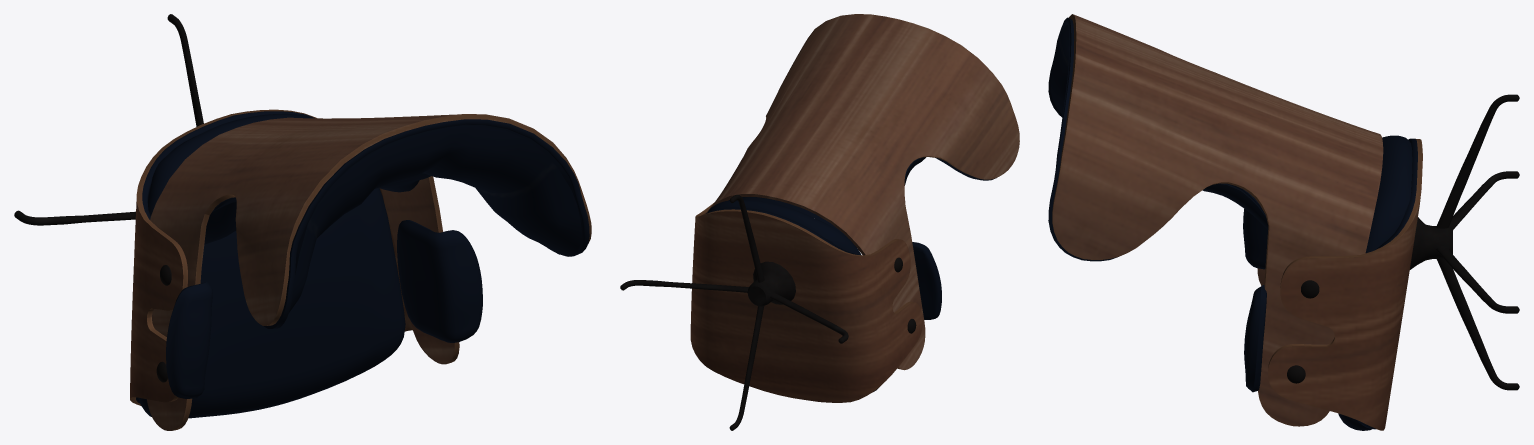
The model's file is lounger-armchair-e9d9d8.glb.
3 renders of one model, left to right at view 1: azimuth 30°, elevation 25°; view 2: azimuth 150°, elevation 25°; view 3: azimuth 270°, elevation 25°, orthographic. The views are drawn at different scales.
Parts seen in each view (by area): view 1: PropMesh; view 2: PropMesh; view 3: PropMesh.
Part boxes in pixels (bbox=[...]): PropMesh: bbox=[14, 14, 591, 430]; PropMesh: bbox=[620, 14, 1019, 430]; PropMesh: bbox=[1048, 14, 1519, 430].
Bounding box in the file's own units: 1.86 × 2.2 × 2.58.
Materials: 1 (1 with a texture image).
